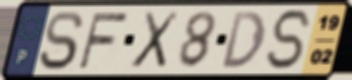8: (177, 9, 218, 71)
D: (220, 10, 267, 71)
F: (76, 10, 132, 71)
S: (265, 7, 316, 72), (36, 9, 87, 72)
X: (128, 9, 183, 71)
